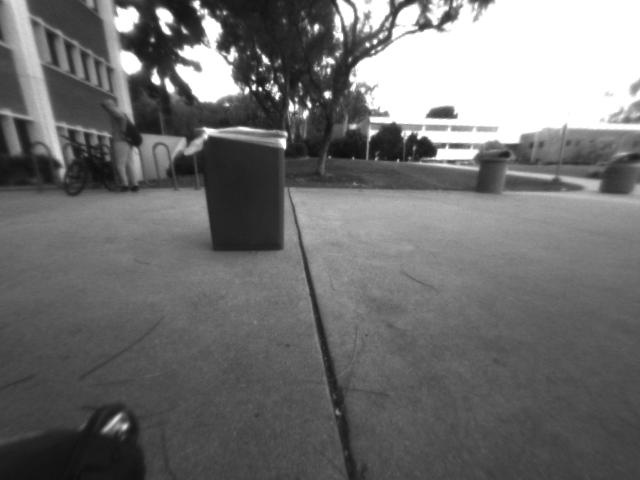trashcan_open: (186, 118, 294, 259)
